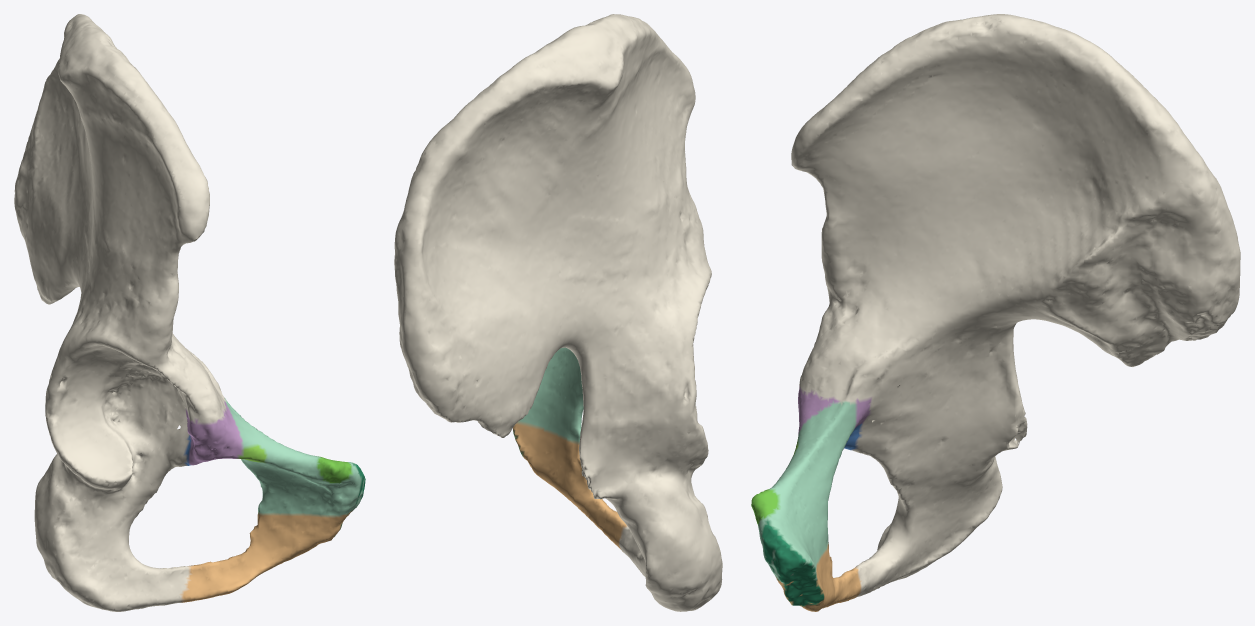
File: kosc-lonowa.glb
3 renders of one model, left to right at view 1: azimuth 30°, elevation 25°; view 2: azimuth 150°, elevation 25°; view 3: azimuth 270°, elevation 25°, orthographic. The views are drawn at different scales.
Size of the model in its own units: 0.0955 by 0.1926 by 0.147.
